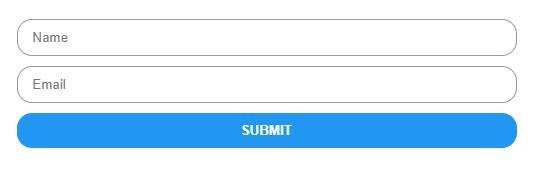button: (19, 113, 518, 150)
input: (18, 20, 518, 57), (18, 67, 518, 104)
